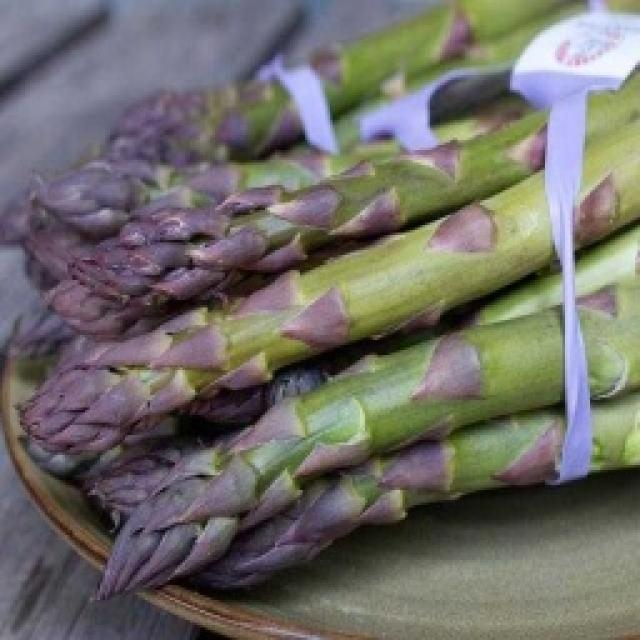Asparagus spear: (190, 491, 454, 575), (323, 343, 581, 428), (33, 331, 320, 402), (88, 226, 297, 286)
